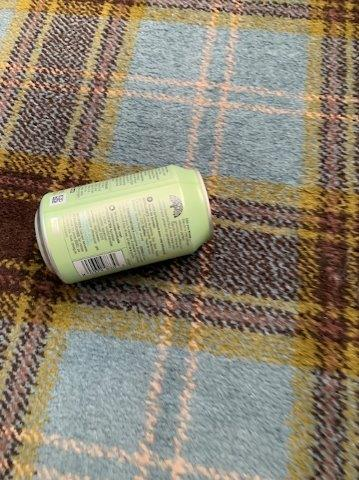kaleng: (35, 166, 214, 282)
